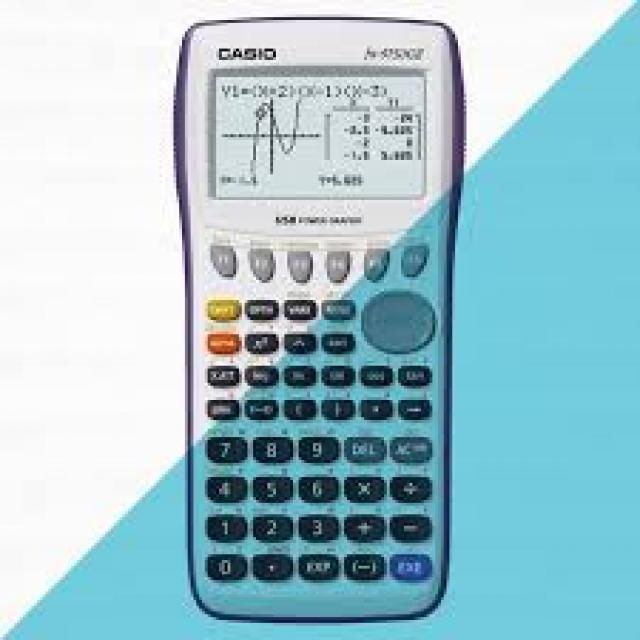Calculator: (173, 18, 472, 628)
